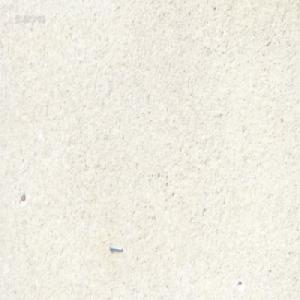Nail: (108, 242, 123, 252)
